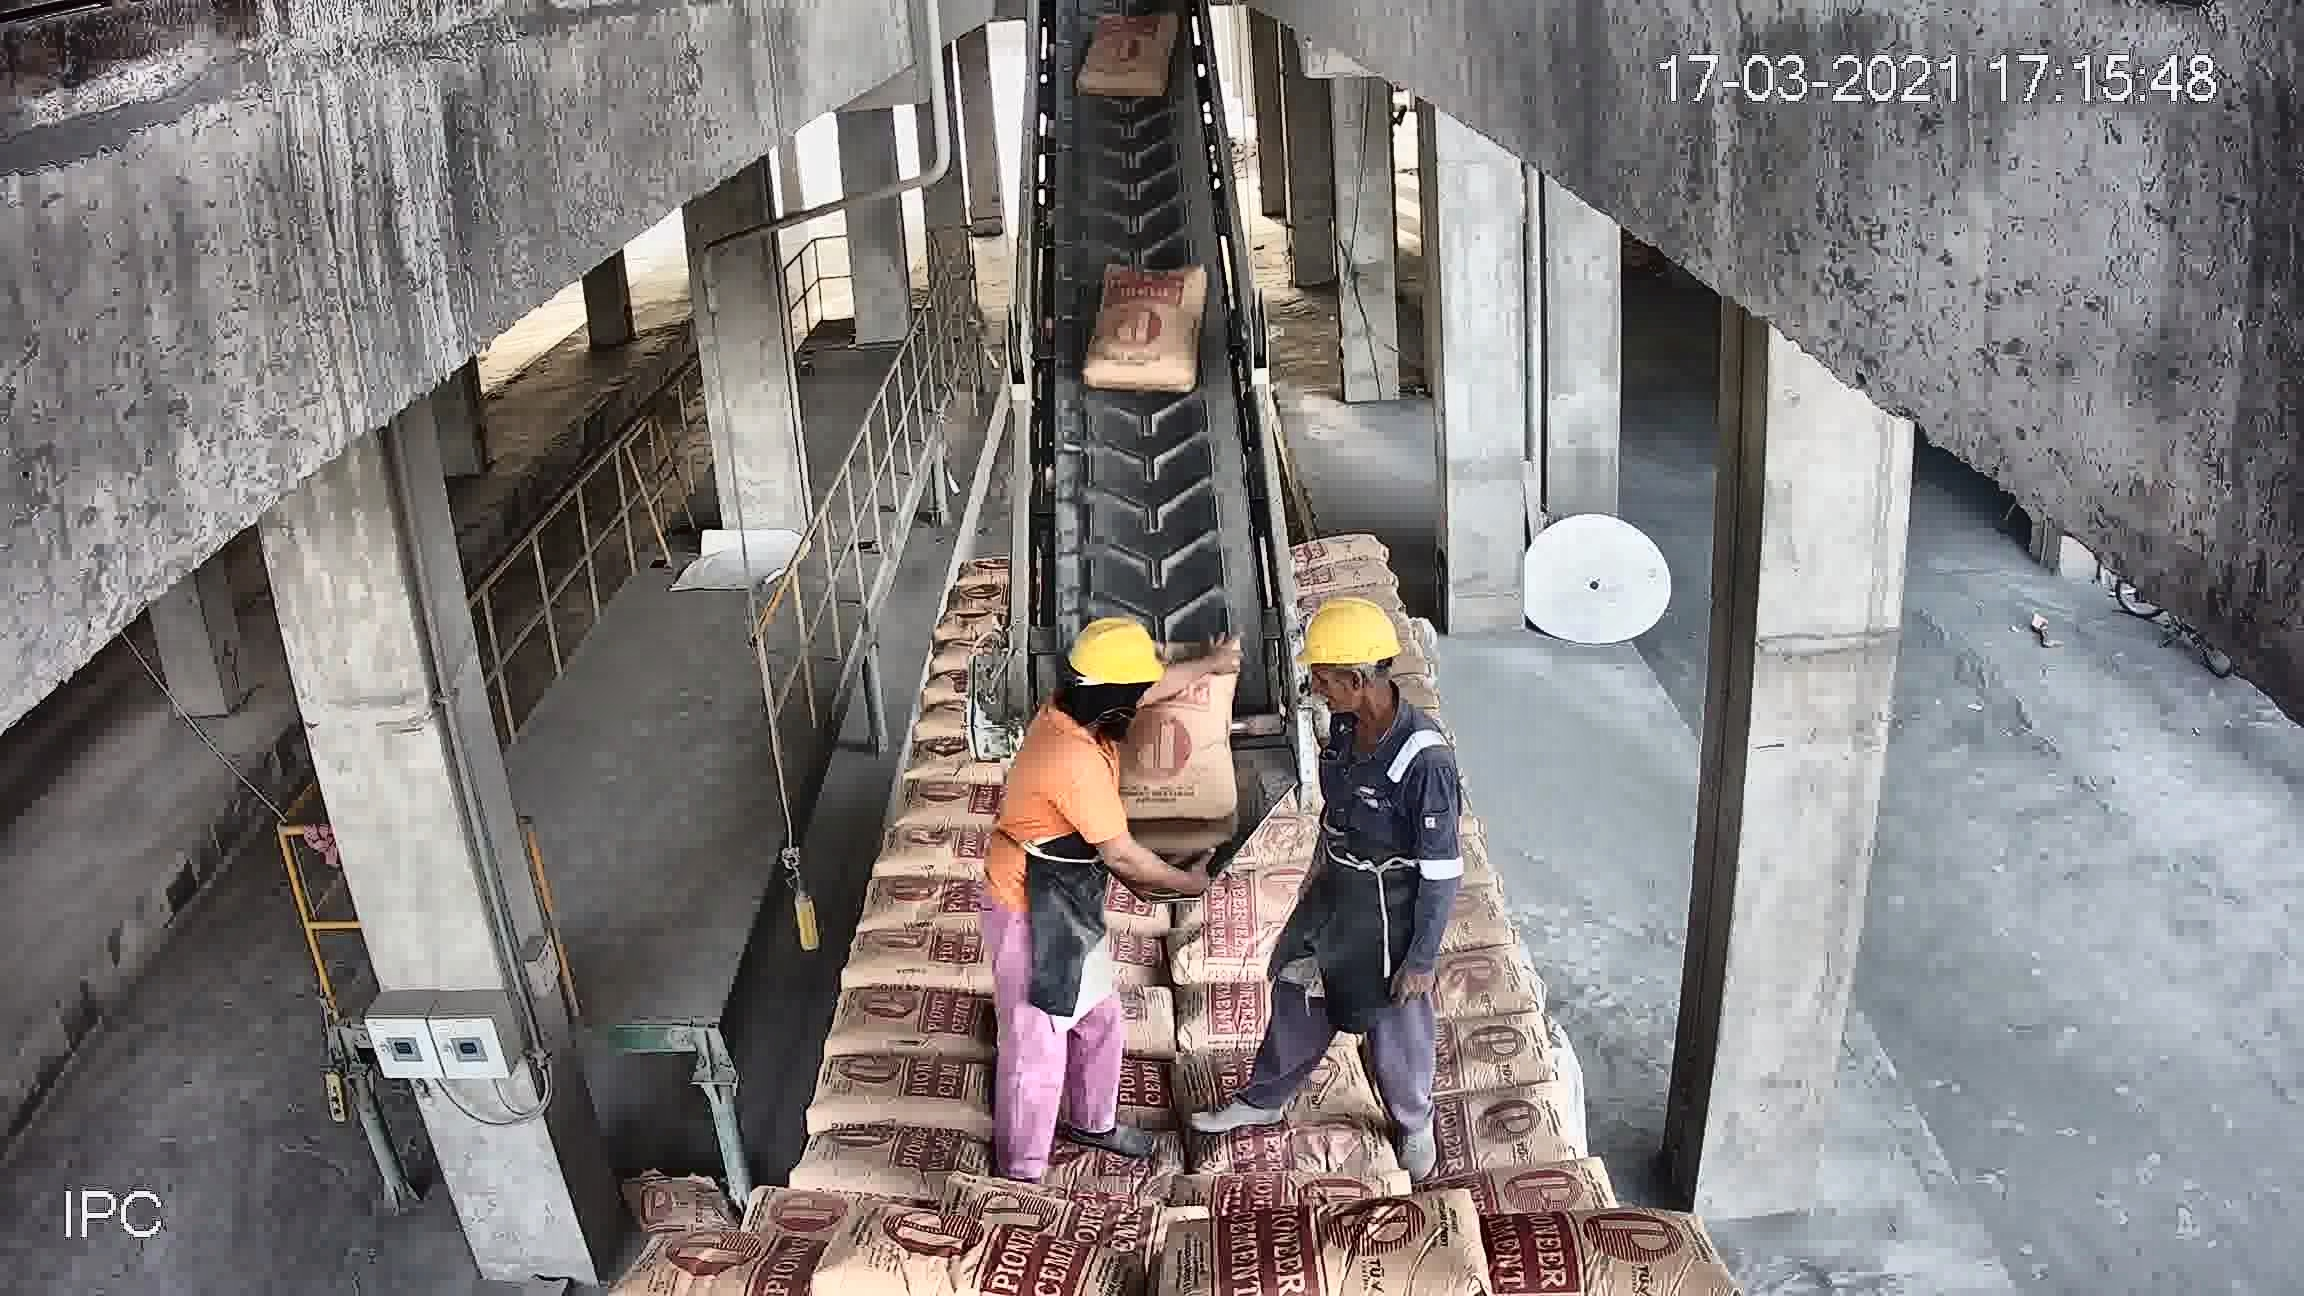bag: (1081, 274, 1212, 400), (1124, 698, 1237, 828), (1070, 9, 1187, 104)
bag_h: (1209, 1211, 1519, 1296), (1438, 1203, 1698, 1293), (818, 1226, 1105, 1296), (1176, 1040, 1370, 1127), (788, 1124, 986, 1207), (1407, 1084, 1582, 1174), (635, 1223, 855, 1294), (1408, 1017, 1579, 1106), (1389, 949, 1563, 1033), (805, 1060, 995, 1135), (821, 992, 986, 1070), (1179, 1165, 1404, 1214), (1438, 1161, 1609, 1223), (1192, 1119, 1396, 1168), (839, 927, 968, 994), (1301, 560, 1399, 600), (1301, 540, 1394, 565)
belt: (1003, 19, 1301, 843)
